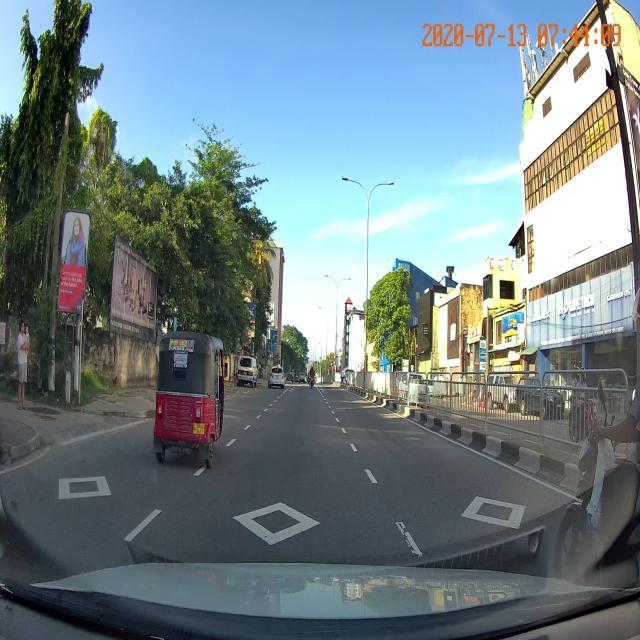diamond: (88, 484, 431, 561)
